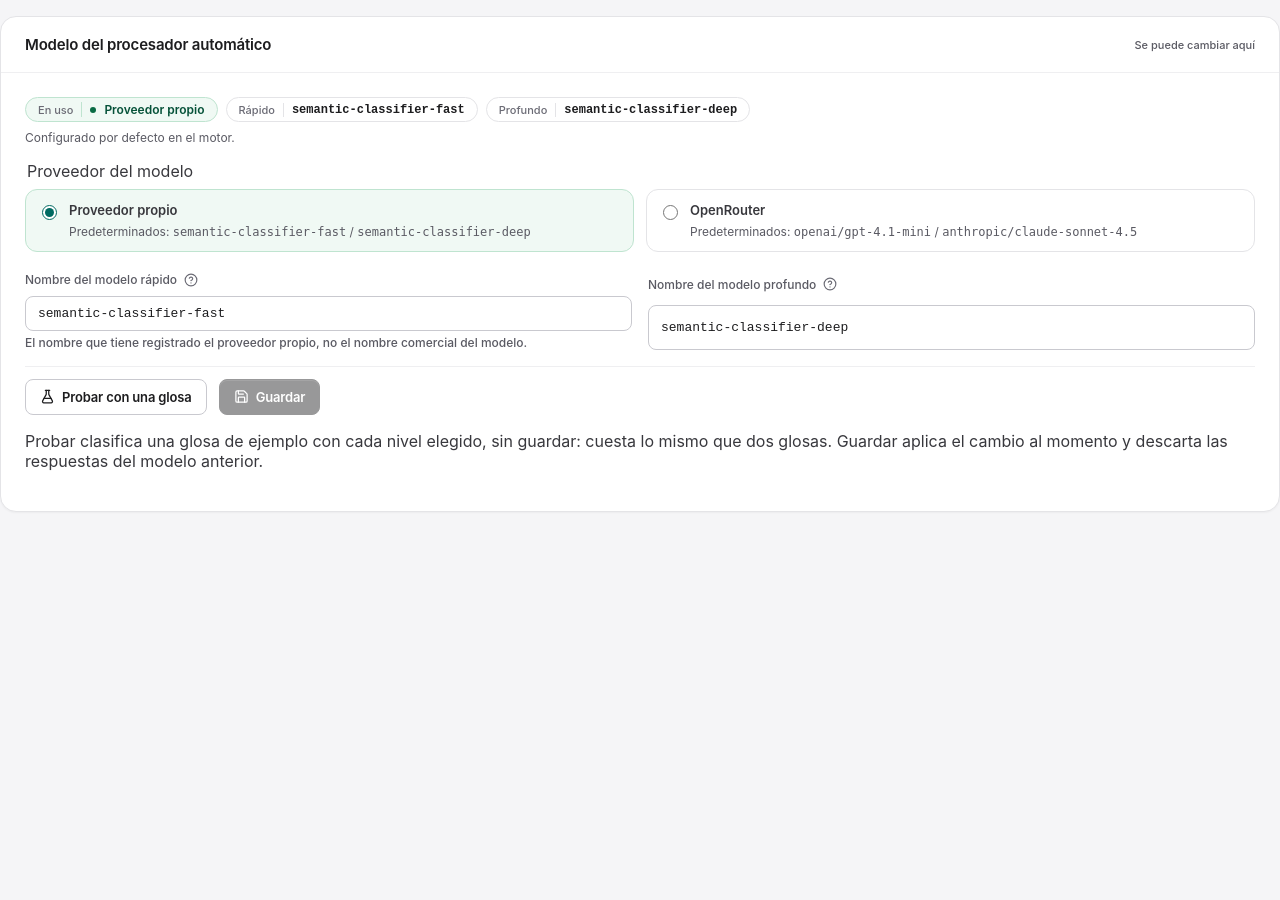
Test: configuración del modelo del worker semántico › probar enseña quién respondió, cuánto tardó y cuánto costó, y el nivel que falló
Click the button "Probar con una glosa": (116,397) [25,379,207,415]
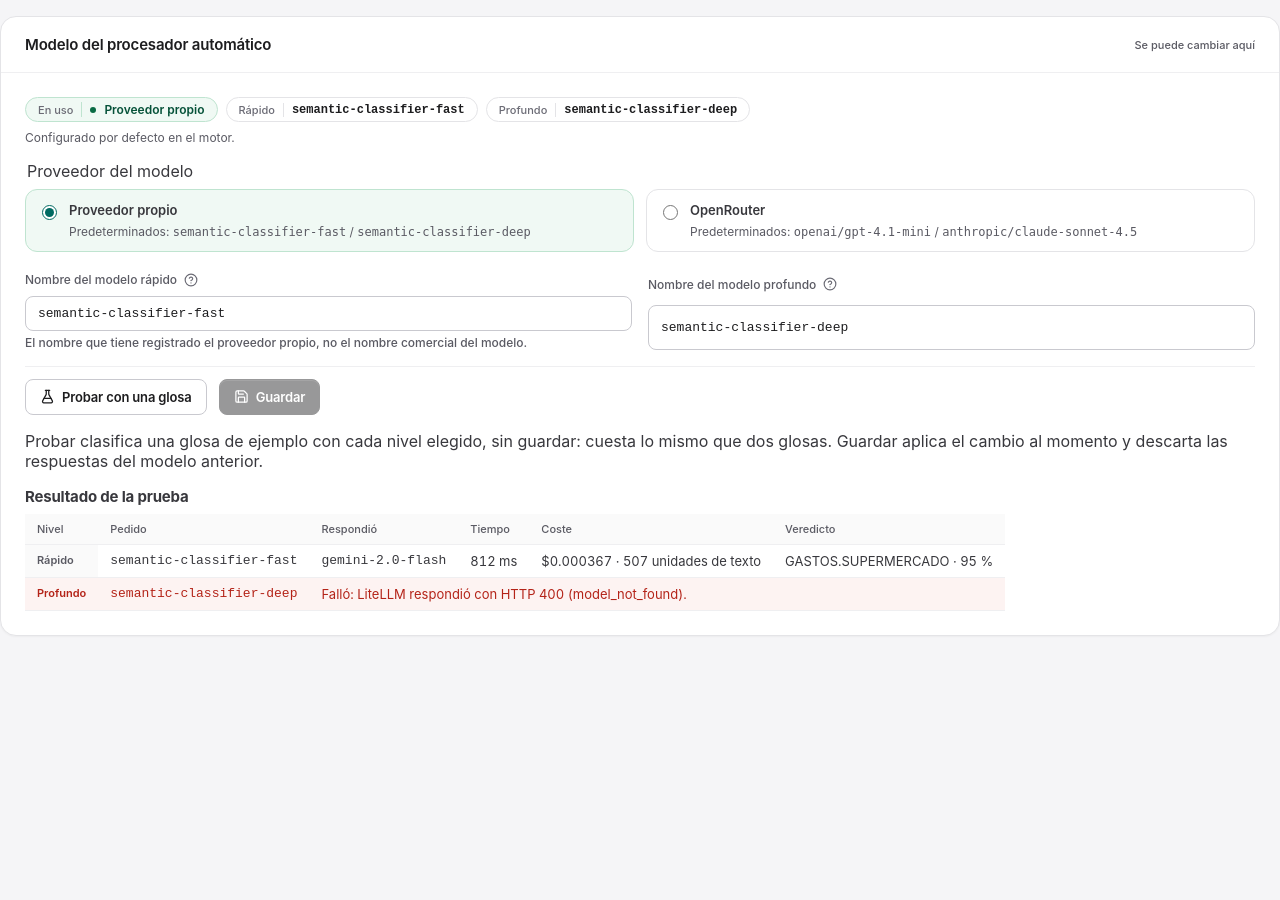
Expected: the text "gemini-2.0-flash" is shown, [310,544,458,577]
Expected: the text "812 ms" is shown, [458,544,529,577]
Expected: the text "$0.000367 · 507 unidades de texto" is shown, [529,544,773,577]
